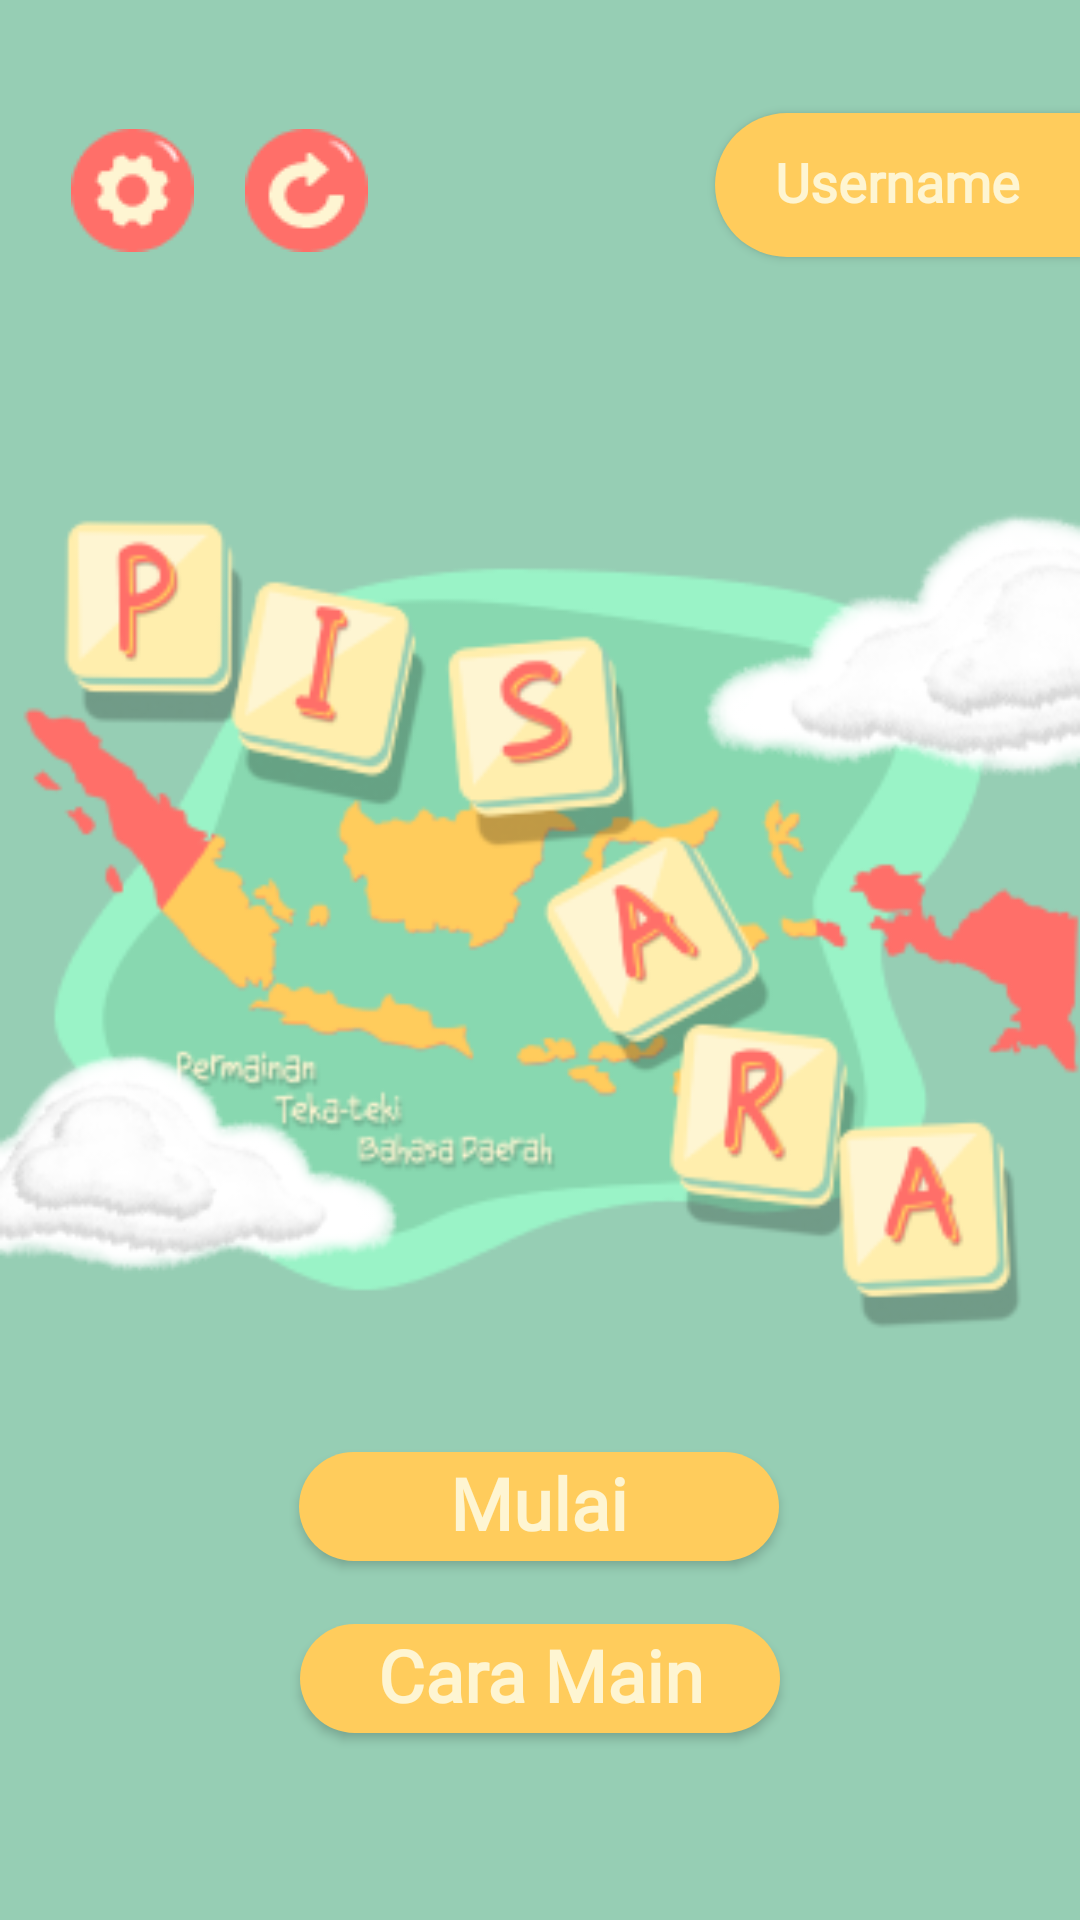

Where to tap for icons on this 1080 × 1920 app screen, as [x,y]:
refresh: [306,190]
setting: [132,190]
